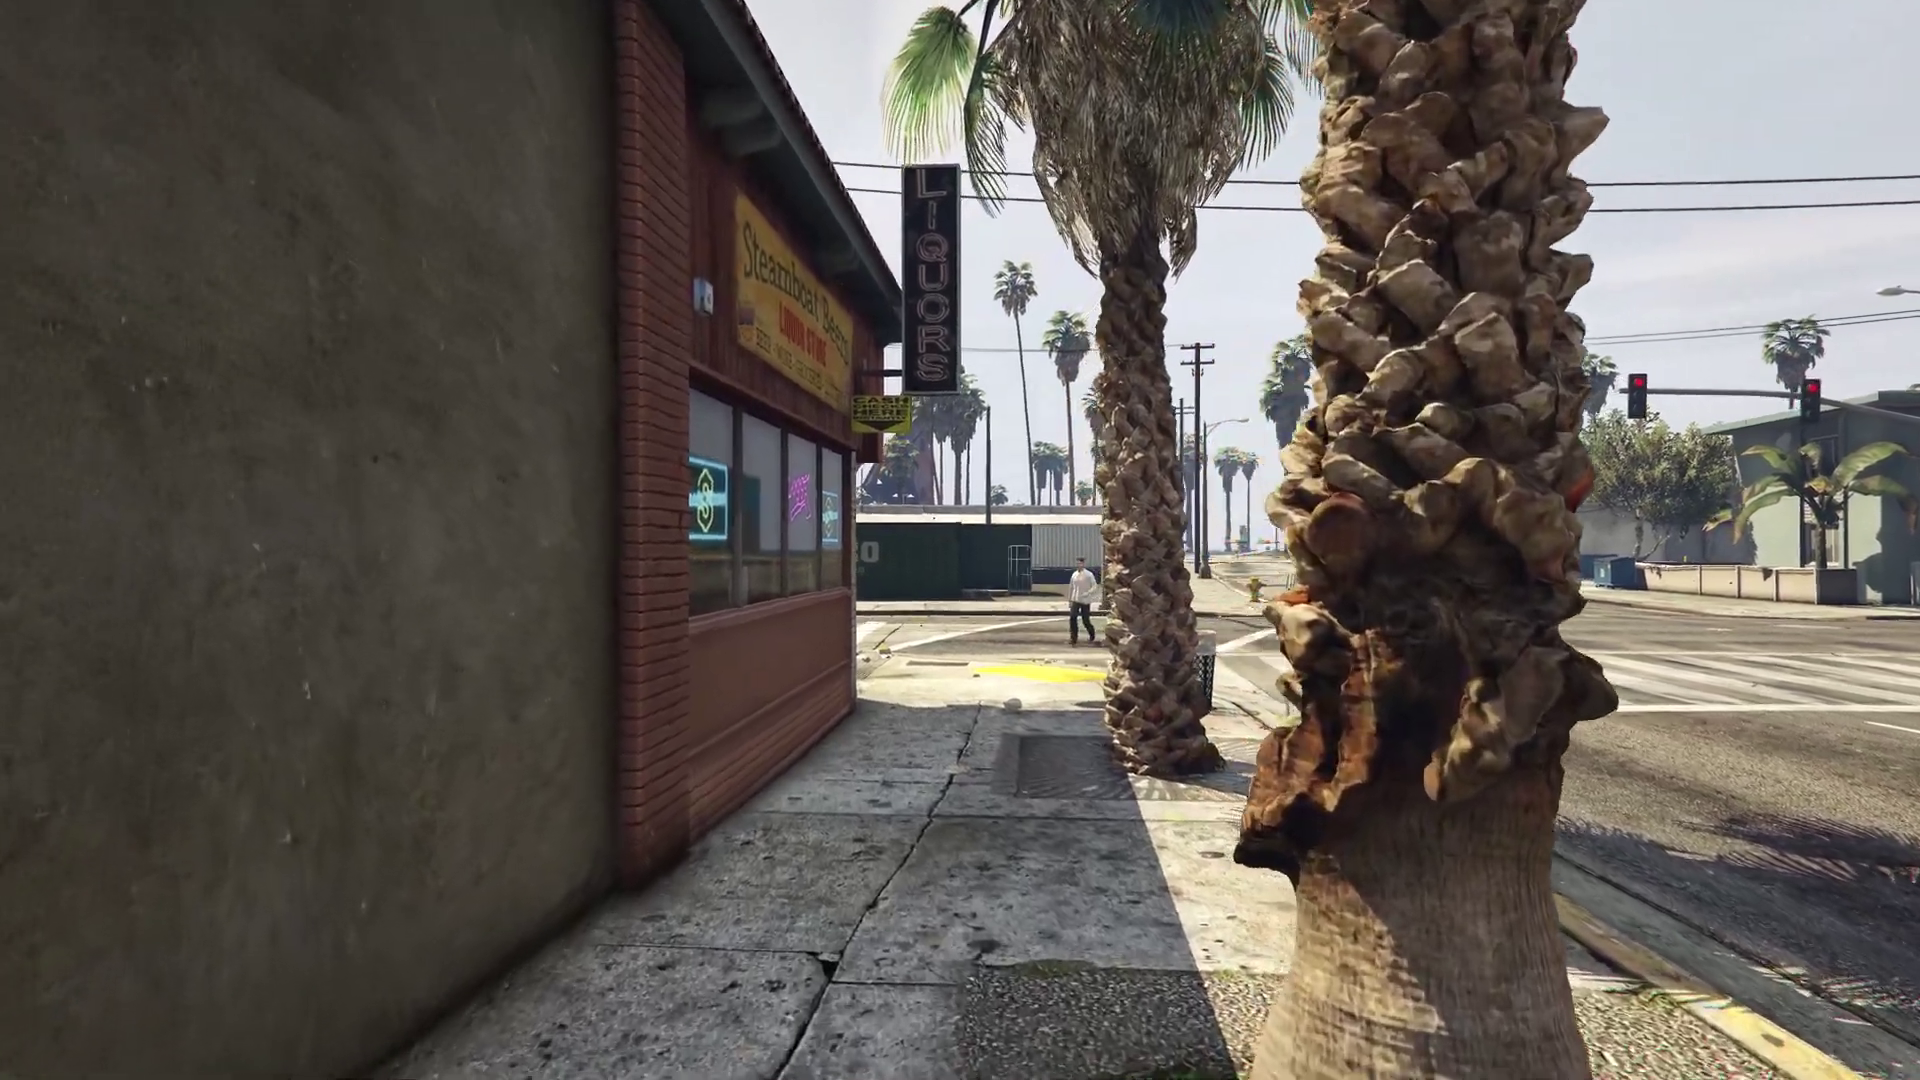person: (1065, 556, 1099, 644)
traffic light: (1798, 377, 1819, 425), (1628, 371, 1646, 422)
